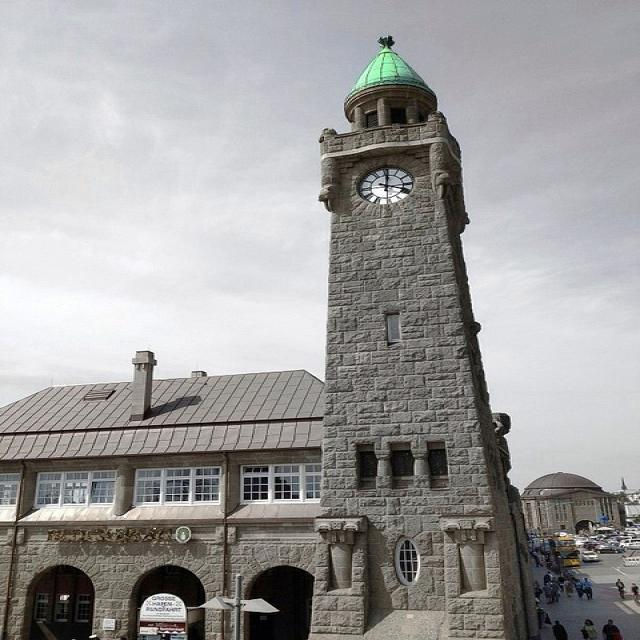Vehicle: (592, 544, 627, 554), (619, 540, 640, 550), (582, 551, 600, 562)
